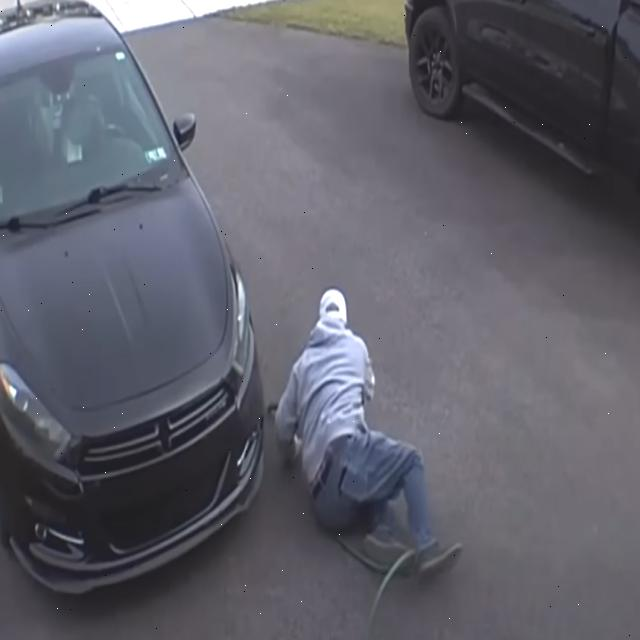fallen: (275, 287, 462, 576)
